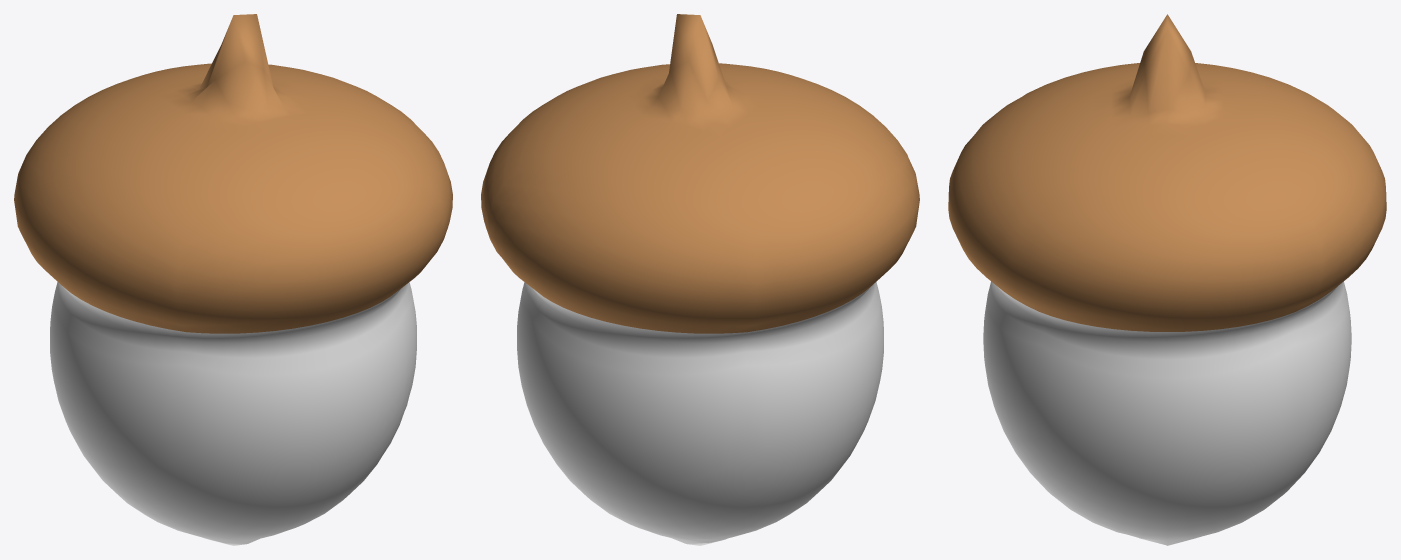
The model's file is shape_acorn.glb.
The picture shows the model from 3 angles, left to right: view 1: azimuth 30°, elevation 25°; view 2: azimuth 150°, elevation 25°; view 3: azimuth 270°, elevation 25°; orthographic projection.
Visible parts, largest first — view 1: shape_acorn; view 2: shape_acorn; view 3: shape_acorn.
Part boxes in pixels (bbox=[...]): shape_acorn: bbox=[14, 14, 452, 545]; shape_acorn: bbox=[481, 14, 919, 545]; shape_acorn: bbox=[948, 14, 1386, 545].
Size of the model in its own units: 0.7469 by 1 by 0.7469.
